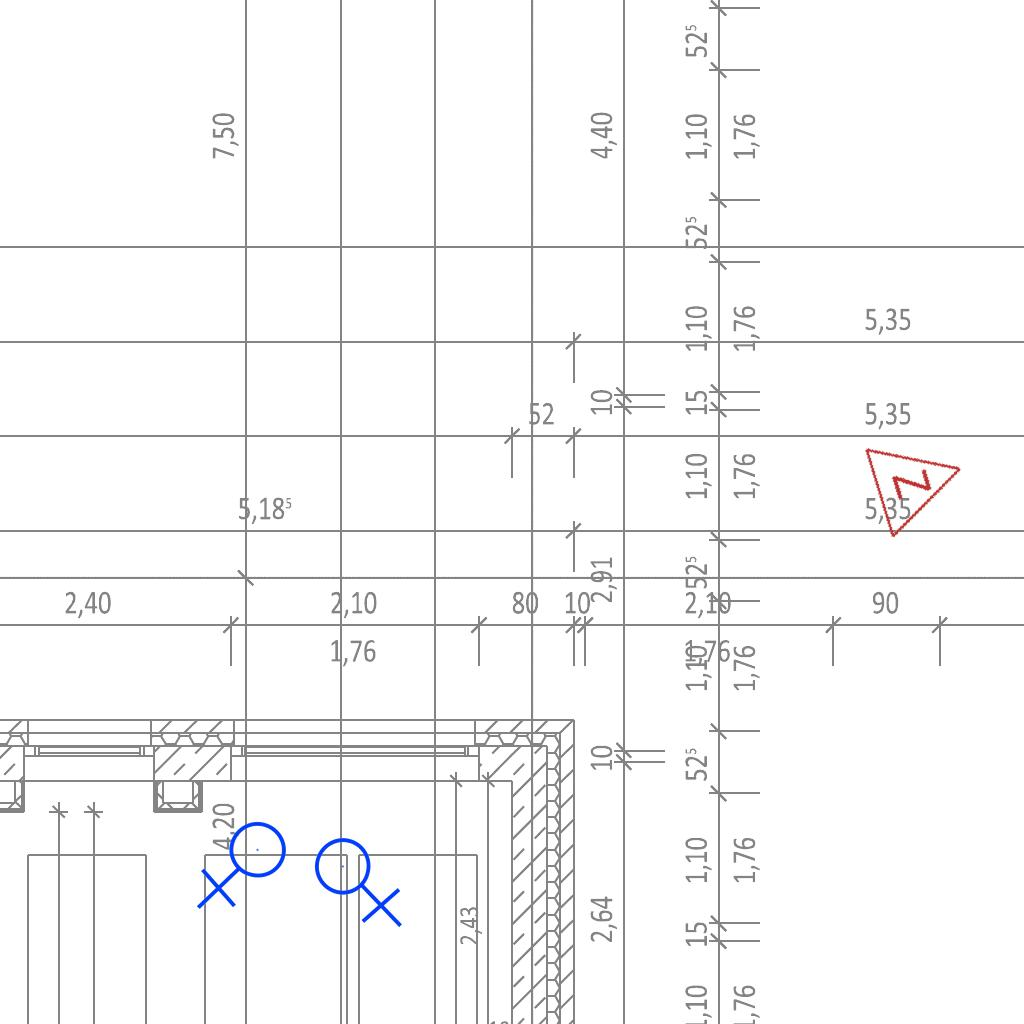Elektroanschluss_allgemein_230V_Geraeteanschlussdose_230V: (196, 820, 295, 914), (313, 829, 407, 928)
Zimmersignalleuchte: (856, 418, 982, 542)
